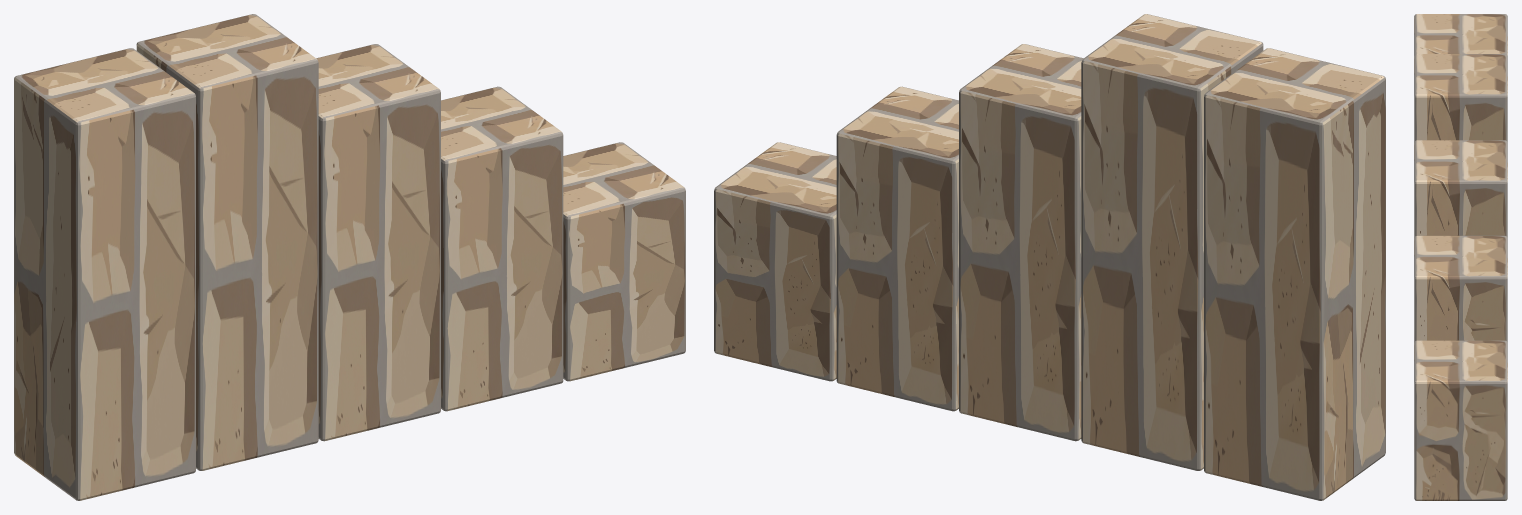
File: ruin_wall_180_LOD2.glb
3 views of the same model, side by side, from view 1: azimuth 30°, elevation 25°; view 2: azimuth 150°, elevation 25°; view 3: azimuth 270°, elevation 25° (orthographic). The views are drawn at different scales.
Visible parts, largest first — view 1: LOD2_Profile, LOD2_Profile.001, LOD2_Profile.002, LOD2_Profile.003, LOD2_Profile.004; view 2: LOD2_Profile, LOD2_Profile.001, LOD2_Profile.002, LOD2_Profile.003, LOD2_Profile.004; view 3: LOD2_Profile.004, LOD2_Profile.003, LOD2_Profile.002, LOD2_Profile.001, LOD2_Profile.
Boxes of the visible parts, x1,y1,x2,y2 form: LOD2_Profile: (14,48,195,500); LOD2_Profile.001: (136,14,318,470); LOD2_Profile.002: (316,44,440,441); LOD2_Profile.003: (441,86,563,411); LOD2_Profile.004: (563,142,685,381); LOD2_Profile: (1204,48,1385,500); LOD2_Profile.001: (1081,14,1263,470); LOD2_Profile.002: (959,44,1083,441); LOD2_Profile.003: (836,86,958,411); LOD2_Profile.004: (714,142,836,381); LOD2_Profile.004: (1414,340,1507,500); LOD2_Profile.003: (1414,235,1507,341); LOD2_Profile.002: (1414,140,1507,237); LOD2_Profile.001: (1414,54,1507,141); LOD2_Profile: (1414,14,1507,55).
Size of the model in its own units: 2.99 by 1.8 by 0.55.
Materials: 1 (1 with a texture image).
